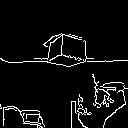cube: (41, 33, 89, 73)
